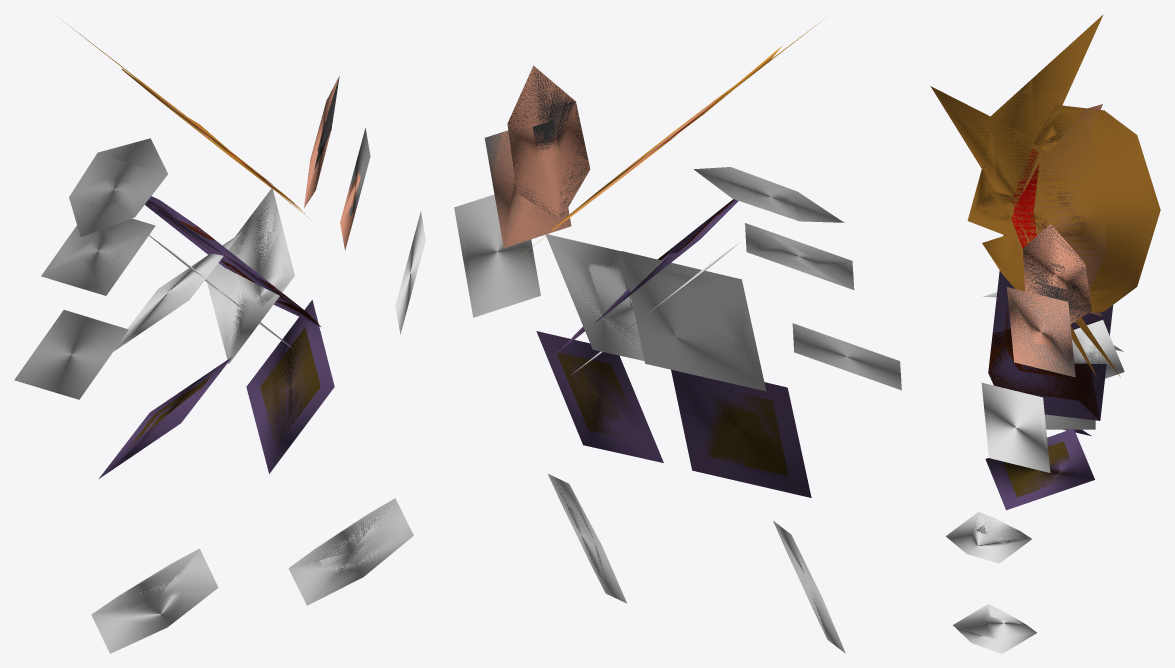
File: aaaa@aafe.Flip-1.Rot-xyz.Axes-xyx.fbx
3 views of the same model, side by side, from view 1: azimuth 30°, elevation 25°; view 2: azimuth 150°, elevation 25°; view 3: azimuth 270°, elevation 25° (orthographic). The views are drawn at different scales.
Parts seen in each view (by area): view 1: bone-15-g0, bone-14-g0, bone-20-g0, bone-10-g0, bone-16-g0, bone-12-g0, bone-11-g0, bone-19-g0, bone-18-g0, bone-1-g0, bone-5-g0, bone-7-g0 (+2 smaller); view 2: bone-18-g0, bone-19-g0, bone-5-g0, bone-15-g0, bone-14-g0, bone-7-g0, bone-6-g0, bone-10-g0, bone-12-g0, bone-11-g0, bone-16-g0, bone-20-g0 (+2 smaller); view 3: bone-2-g0, bone-1-g0, bone-7-g0, bone-6-g0, bone-15-g0, bone-5-g0, bone-20-g0, bone-16-g0, bone-14-g0, bone-2-g3, bone-0-g0.
Boxes of the visible parts, <box> form: bone-15-g0: <box>246,300,334,473</box>; bone-14-g0: <box>206,188,294,363</box>; bone-20-g0: <box>91,548,218,653</box>; bone-10-g0: <box>69,138,167,236</box>; bone-16-g0: <box>288,498,413,605</box>; bone-12-g0: <box>14,310,128,399</box>; bone-11-g0: <box>41,218,155,295</box>; bone-19-g0: <box>99,357,231,478</box>; bone-18-g0: <box>113,232,241,351</box>; bone-1-g0: <box>145,196,320,326</box>; bone-5-g0: <box>304,76,339,207</box>; bone-7-g0: <box>395,211,425,334</box>; bone-18-g0: <box>621,251,766,391</box>; bone-19-g0: <box>671,369,811,497</box>; bone-5-g0: <box>507,65,590,220</box>; bone-15-g0: <box>536,331,663,462</box>; bone-14-g0: <box>545,234,644,360</box>; bone-7-g0: <box>454,194,540,317</box>; bone-6-g0: <box>484,130,571,247</box>; bone-10-g0: <box>694,167,844,222</box>; bone-12-g0: <box>792,323,901,390</box>; bone-11-g0: <box>745,223,854,289</box>; bone-16-g0: <box>548,474,626,603</box>; bone-20-g0: <box>773,521,845,653</box>; bone-2-g0: <box>930,14,1160,379</box>; bone-1-g0: <box>988,235,1113,420</box>; bone-7-g0: <box>981,382,1050,472</box>; bone-6-g0: <box>1007,287,1075,377</box>; bone-15-g0: <box>985,428,1094,510</box>; bone-5-g0: <box>1023,224,1091,323</box>; bone-20-g0: <box>946,511,1031,563</box>; bone-16-g0: <box>953,604,1036,653</box>; bone-14-g0: <box>1072,320,1124,378</box>; bone-2-g3: <box>1013,164,1039,241</box>; bone-0-g0: <box>1044,414,1095,429</box>.
Size of the model in its own units: 20.12 by 28.26 by 10.71.
